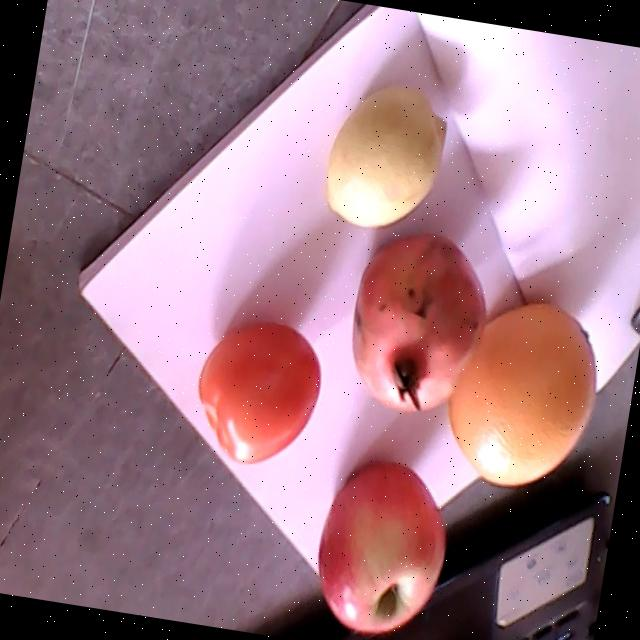apple: (319, 457, 448, 632)
lemon: (325, 85, 447, 228)
orange: (447, 302, 598, 482)
pomegranate: (353, 233, 486, 409)
tomato: (200, 320, 321, 466)
